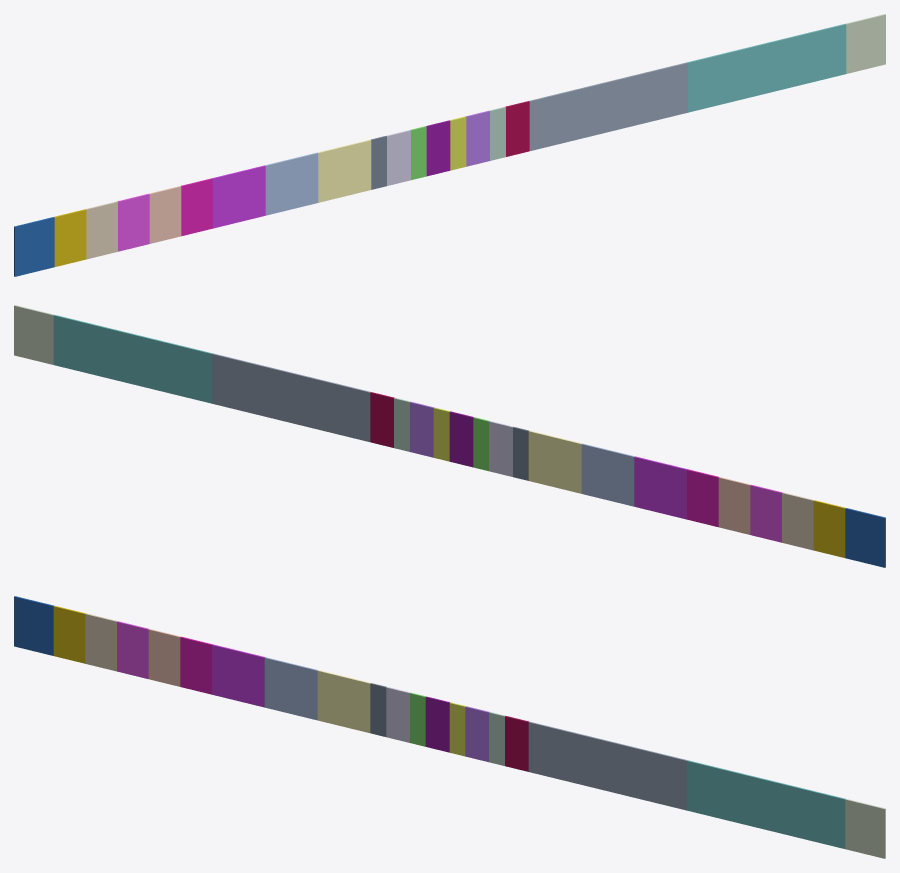
Rendered from Elements_Spatial_Grid1d.glb.
3 views of the same model, one above another, from view 1: azimuth 30°, elevation 25°; view 2: azimuth 150°, elevation 25°; view 3: azimuth 330°, elevation 25° (orthographic).
Parts seen in each view (by area): view 1: 5255a00c-ef70-4a8c-9a86-eab37170ff53_mesh, a3612b1d-bfa5-46f3-bb34-db700e6963d8_mesh, e95b8e7f-16cd-4c8f-97e8-203193f2ca7a_mesh, f03f9b30-39fd-4549-907c-fe4c39a48cd6_mesh, 747f350c-cca2-4c60-ad80-933cc81f5cb6_mesh, fff92fa6-941f-438f-94b8-f86b8584461c_mesh, f37e1f15-0e78-48f8-aa59-9ba324a77cb7_mesh, 1f574d57-70df-4fcb-bbad-2efd89f5380c_mesh, b5a5ee35-bef2-4d21-b9ca-71ee25f5ac67_mesh, 803519ee-40a9-45d6-a4e1-89a5b3dee2cb_mesh, b5521805-6592-4217-ac92-5d514d0751ce_mesh, 102b35cd-f9fa-4594-8aa9-d2539bf9f22f_mesh (+8 smaller); view 2: 5255a00c-ef70-4a8c-9a86-eab37170ff53_mesh, a3612b1d-bfa5-46f3-bb34-db700e6963d8_mesh, e95b8e7f-16cd-4c8f-97e8-203193f2ca7a_mesh, f03f9b30-39fd-4549-907c-fe4c39a48cd6_mesh, 747f350c-cca2-4c60-ad80-933cc81f5cb6_mesh, fff92fa6-941f-438f-94b8-f86b8584461c_mesh, f37e1f15-0e78-48f8-aa59-9ba324a77cb7_mesh, 1f574d57-70df-4fcb-bbad-2efd89f5380c_mesh, b5a5ee35-bef2-4d21-b9ca-71ee25f5ac67_mesh, 803519ee-40a9-45d6-a4e1-89a5b3dee2cb_mesh, b5521805-6592-4217-ac92-5d514d0751ce_mesh, 102b35cd-f9fa-4594-8aa9-d2539bf9f22f_mesh (+8 smaller); view 3: a3612b1d-bfa5-46f3-bb34-db700e6963d8_mesh, 5255a00c-ef70-4a8c-9a86-eab37170ff53_mesh, f03f9b30-39fd-4549-907c-fe4c39a48cd6_mesh, e95b8e7f-16cd-4c8f-97e8-203193f2ca7a_mesh, 747f350c-cca2-4c60-ad80-933cc81f5cb6_mesh, f37e1f15-0e78-48f8-aa59-9ba324a77cb7_mesh, fff92fa6-941f-438f-94b8-f86b8584461c_mesh, 1f574d57-70df-4fcb-bbad-2efd89f5380c_mesh, b5a5ee35-bef2-4d21-b9ca-71ee25f5ac67_mesh, 803519ee-40a9-45d6-a4e1-89a5b3dee2cb_mesh, b5521805-6592-4217-ac92-5d514d0751ce_mesh, 102b35cd-f9fa-4594-8aa9-d2539bf9f22f_mesh (+8 smaller).
Boxes of the visible parts, box(x1,y1,x2,y2) form: 5255a00c-ef70-4a8c-9a86-eab37170ff53_mesh: box(687, 23, 846, 112); a3612b1d-bfa5-46f3-bb34-db700e6963d8_mesh: box(529, 62, 687, 150); e95b8e7f-16cd-4c8f-97e8-203193f2ca7a_mesh: box(318, 139, 371, 202); f03f9b30-39fd-4549-907c-fe4c39a48cd6_mesh: box(265, 152, 318, 215); 747f350c-cca2-4c60-ad80-933cc81f5cb6_mesh: box(212, 165, 265, 228); fff92fa6-941f-438f-94b8-f86b8584461c_mesh: box(14, 217, 54, 276); f37e1f15-0e78-48f8-aa59-9ba324a77cb7_mesh: box(846, 14, 885, 73); 1f574d57-70df-4fcb-bbad-2efd89f5380c_mesh: box(54, 209, 86, 266); b5a5ee35-bef2-4d21-b9ca-71ee25f5ac67_mesh: box(149, 186, 181, 243); 803519ee-40a9-45d6-a4e1-89a5b3dee2cb_mesh: box(181, 178, 212, 236); b5521805-6592-4217-ac92-5d514d0751ce_mesh: box(85, 201, 117, 259); 102b35cd-f9fa-4594-8aa9-d2539bf9f22f_mesh: box(117, 194, 149, 251); 5255a00c-ef70-4a8c-9a86-eab37170ff53_mesh: box(53, 314, 212, 403); a3612b1d-bfa5-46f3-bb34-db700e6963d8_mesh: box(212, 353, 370, 441); e95b8e7f-16cd-4c8f-97e8-203193f2ca7a_mesh: box(528, 430, 581, 493); f03f9b30-39fd-4549-907c-fe4c39a48cd6_mesh: box(581, 443, 634, 506); 747f350c-cca2-4c60-ad80-933cc81f5cb6_mesh: box(634, 456, 687, 519); fff92fa6-941f-438f-94b8-f86b8584461c_mesh: box(845, 508, 885, 567); f37e1f15-0e78-48f8-aa59-9ba324a77cb7_mesh: box(14, 305, 53, 364); 1f574d57-70df-4fcb-bbad-2efd89f5380c_mesh: box(813, 500, 845, 557); b5a5ee35-bef2-4d21-b9ca-71ee25f5ac67_mesh: box(718, 477, 750, 534); 803519ee-40a9-45d6-a4e1-89a5b3dee2cb_mesh: box(687, 469, 718, 527); b5521805-6592-4217-ac92-5d514d0751ce_mesh: box(782, 492, 814, 550); 102b35cd-f9fa-4594-8aa9-d2539bf9f22f_mesh: box(750, 485, 782, 542); a3612b1d-bfa5-46f3-bb34-db700e6963d8_mesh: box(528, 721, 687, 810); 5255a00c-ef70-4a8c-9a86-eab37170ff53_mesh: box(687, 760, 845, 848); f03f9b30-39fd-4549-907c-fe4c39a48cd6_mesh: box(264, 657, 317, 720); e95b8e7f-16cd-4c8f-97e8-203193f2ca7a_mesh: box(317, 670, 370, 732); 747f350c-cca2-4c60-ad80-933cc81f5cb6_mesh: box(212, 644, 265, 707); f37e1f15-0e78-48f8-aa59-9ba324a77cb7_mesh: box(845, 799, 885, 858); fff92fa6-941f-438f-94b8-f86b8584461c_mesh: box(14, 596, 53, 655); 1f574d57-70df-4fcb-bbad-2efd89f5380c_mesh: box(53, 605, 85, 663); b5a5ee35-bef2-4d21-b9ca-71ee25f5ac67_mesh: box(148, 629, 180, 686); 803519ee-40a9-45d6-a4e1-89a5b3dee2cb_mesh: box(180, 636, 212, 694); b5521805-6592-4217-ac92-5d514d0751ce_mesh: box(85, 613, 117, 671); 102b35cd-f9fa-4594-8aa9-d2539bf9f22f_mesh: box(117, 621, 148, 678).
Bounding box in the file's own units: 55 × 3 × 0.1.
